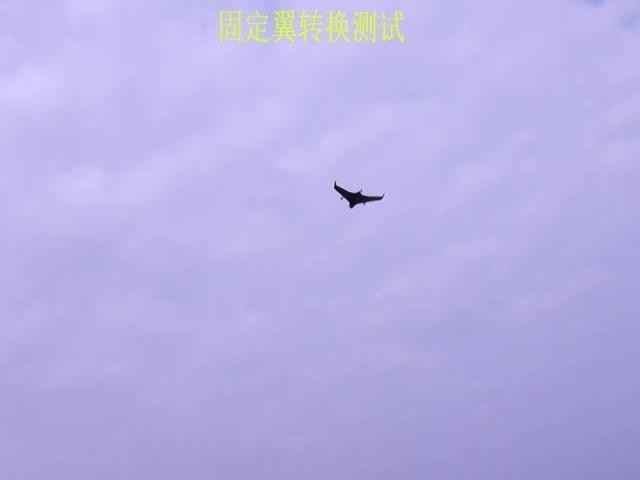Airplane: (333, 180, 385, 209)
